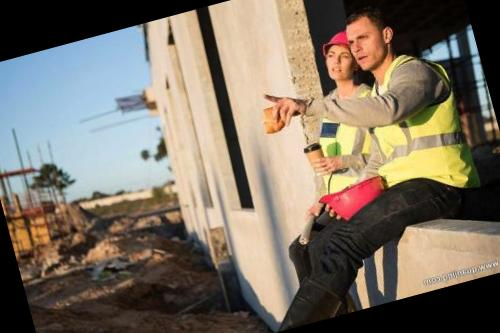no_helmet: (338, 0, 405, 79)
